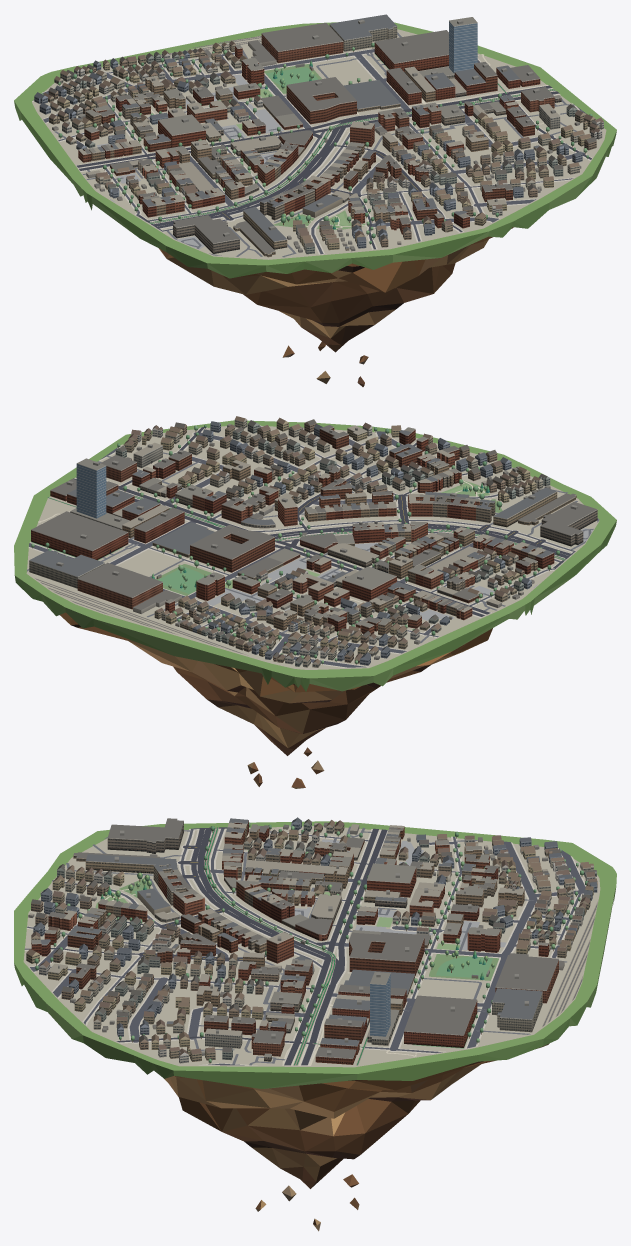
File: segment-place-brico.glb
The picture shows the model from 3 angles, top to bottom: view 1: azimuth 30°, elevation 25°; view 2: azimuth 150°, elevation 25°; view 3: azimuth 270°, elevation 25°; orthographic projection. The views are drawn at different scales.
Parts seen in each view (by area): view 1: Masonry, foliage and streets, Brick walk-up elevations, Island turf, Clapboard house elevations, Island earth and rock, Stone institutional elevations, Glass curtain wall, Street-level storefronts; view 2: Masonry, foliage and streets, Brick walk-up elevations, Clapboard house elevations, Island turf, Island earth and rock, Stone institutional elevations, Glass curtain wall, Street-level storefronts; view 3: Masonry, foliage and streets, Brick walk-up elevations, Island earth and rock, Island turf, Clapboard house elevations, Stone institutional elevations, Street-level storefronts, Glass curtain wall.
Boxes of the visible parts, x1,y1,x2,y2 form: Masonry, foliage and streets: (32,14,606,259); Brick walk-up elevations: (78,46,561,257); Island turf: (14,22,616,278); Clapboard house elevations: (34,43,603,254); Island earth and rock: (159,227,513,386); Stone institutional elevations: (193,24,560,191); Glass curtain wall: (449,21,477,73); Street-level storefronts: (173,51,561,253); Masonry, foliage and streets: (26,416,599,669); Brick walk-up elevations: (106,428,597,635); Clapboard house elevations: (115,420,550,667); Island turf: (14,420,616,691); Island earth and rock: (60,612,492,788); Stone institutional elevations: (29,446,483,609); Glass curtain wall: (76,464,106,518); Street-level storefronts: (31,482,597,587); Masonry, foliage and streets: (23,817,600,1067); Brick walk-up elevations: (31,821,548,1059); Island earth and rock: (164,1043,549,1231); Island turf: (14,821,616,1088); Clapboard house elevations: (26,821,597,1063); Stone institutional elevations: (205,868,558,1064); Street-level storefronts: (85,830,477,1061); Glass curtain wall: (370,974,390,1036).
Bounding box in the file's own units: 0.8814 × 0.5269 × 0.8878.
8 materials, 5 textured.
